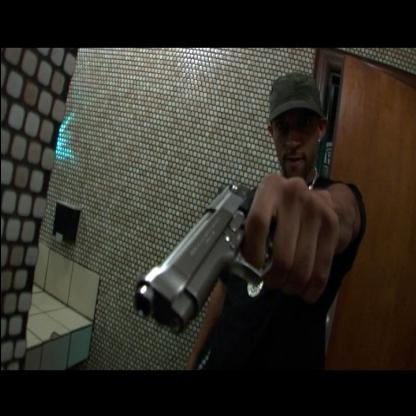billete: (132, 178, 328, 326)
